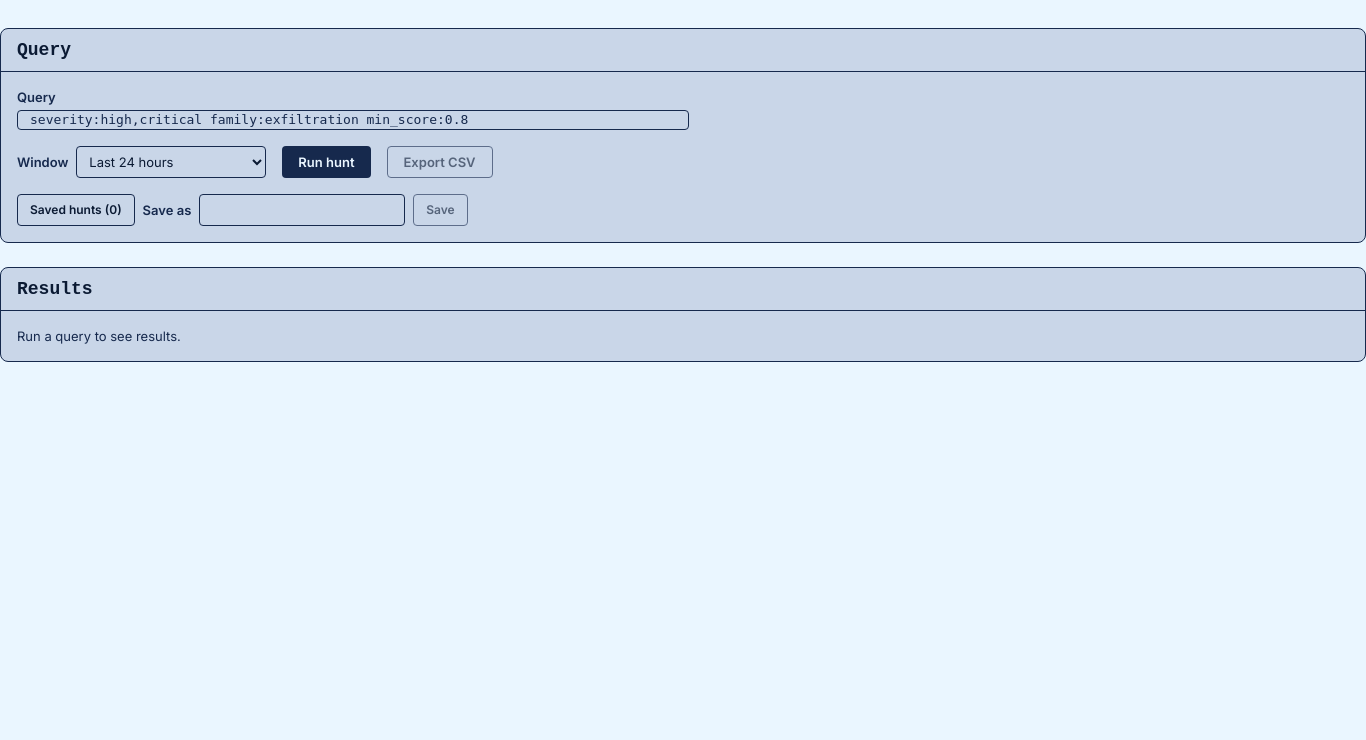
Scenario: the hunt console › runs the query, shows the rows and echoes what was searched
The image size is (1366, 740).
Type "severity:high" into the dropdown labelled "Query" at (353, 120), box 17,110 -> 689,130
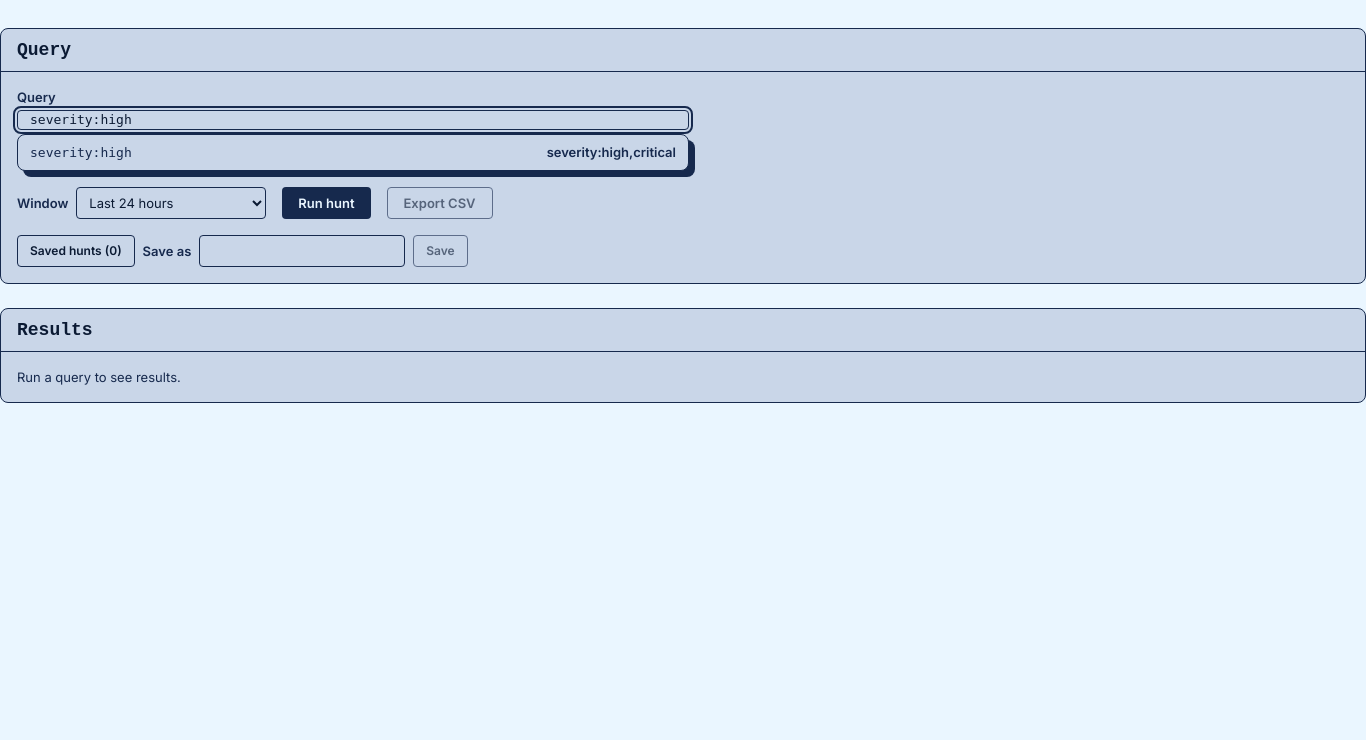
Click the button "Run hunt" at (326, 203), box 282,187 -> 370,219
(page scrolled)
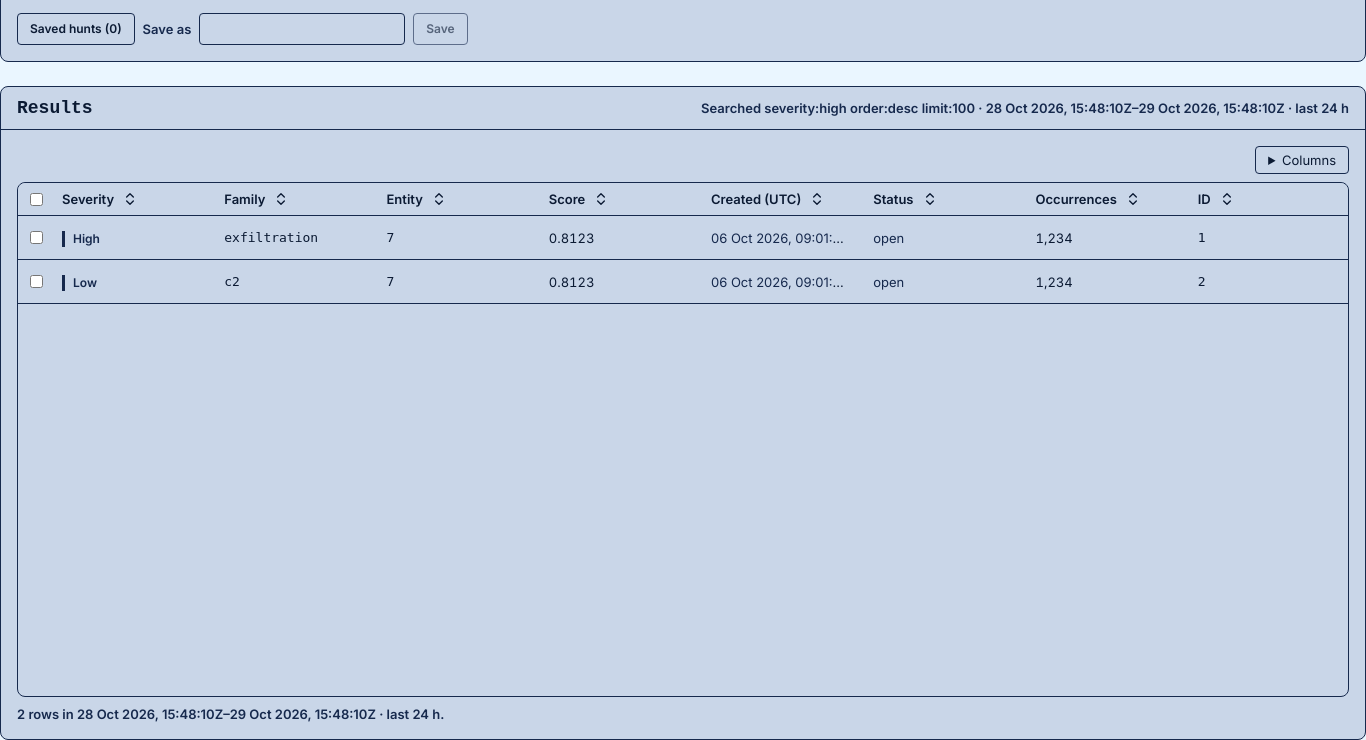
Check: the cell "exfiltration" is shown, box 224,230 -> 318,245
Check: the text "Searched severity:high order:desc limit:100" is shown, box 701,100 -> 1349,116
Check: the text "2 rows in" is shown, box 17,706 -> 444,722
